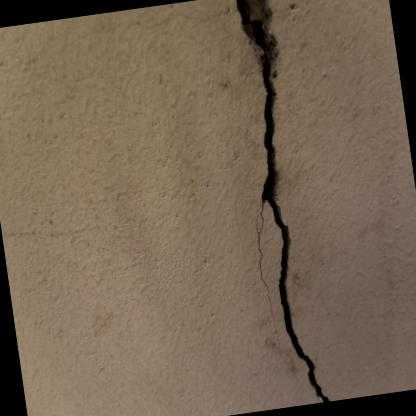crack: (236, 0, 330, 402)
